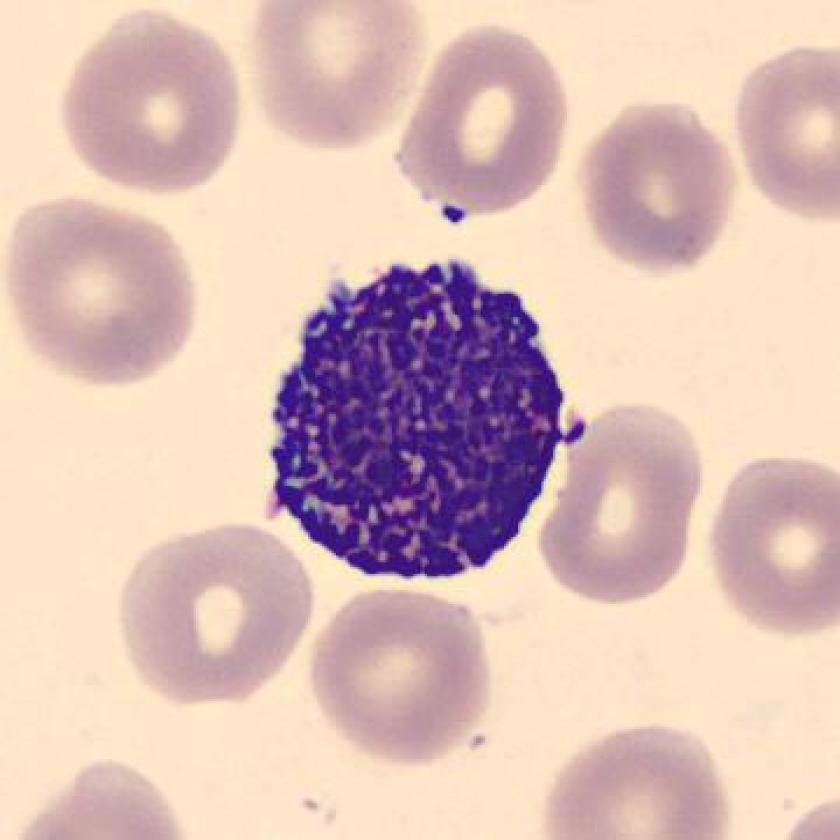basophil: (260, 244, 587, 598)
